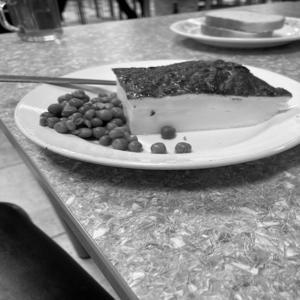bread: (195, 1, 295, 45)
casserole: (45, 35, 283, 174)
